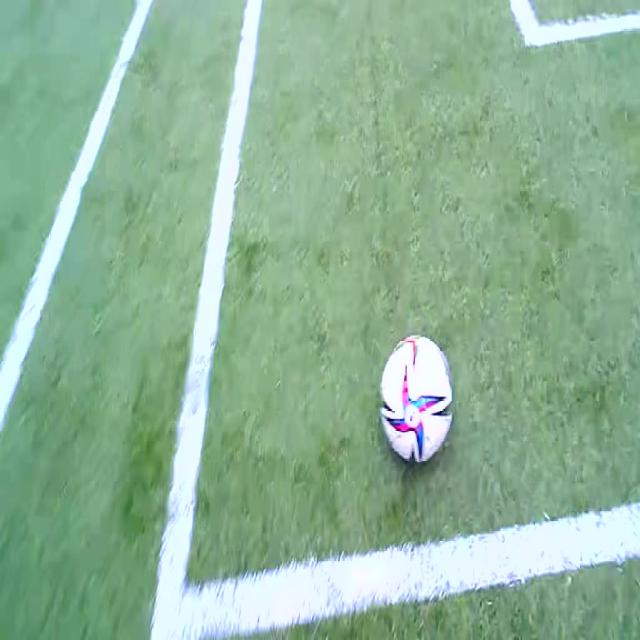ball: (380, 334, 452, 462)
